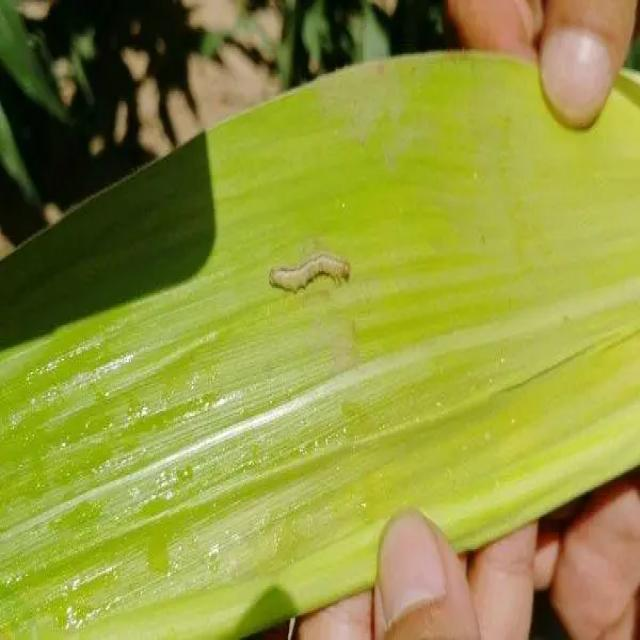pest: (263, 252, 354, 290)
